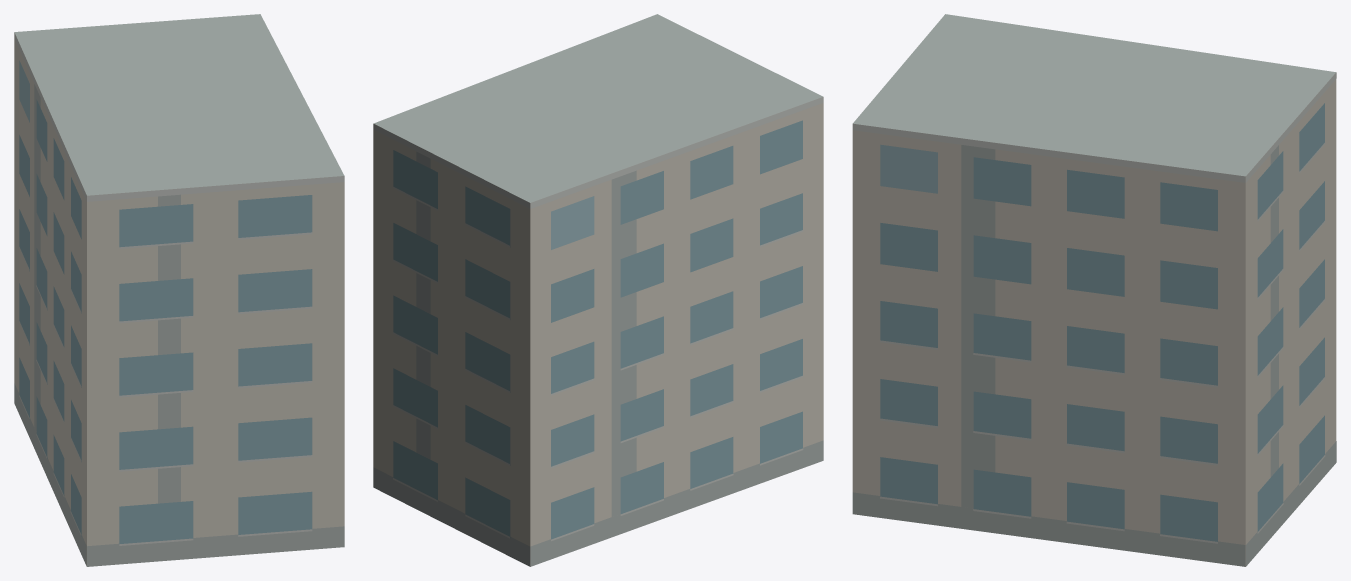
File: survey-upis-32885787.glb
3 renders of one model, left to right at view 1: azimuth 30°, elevation 25°; view 2: azimuth 150°, elevation 25°; view 3: azimuth 270°, elevation 25°, orthographic. The views are drawn at different scales.
Parts seen in each view (by area): view 1: survey-upis-32885787.tmp; view 2: survey-upis-32885787.tmp; view 3: survey-upis-32885787.tmp.
Part boxes in pixels (box(x1,y1,x2,y2)): survey-upis-32885787.tmp: box(14, 14, 344, 566); survey-upis-32885787.tmp: box(373, 14, 823, 566); survey-upis-32885787.tmp: box(852, 14, 1336, 566).
Bounding box in the file's own units: 12.94 × 14.5 × 16.29.
